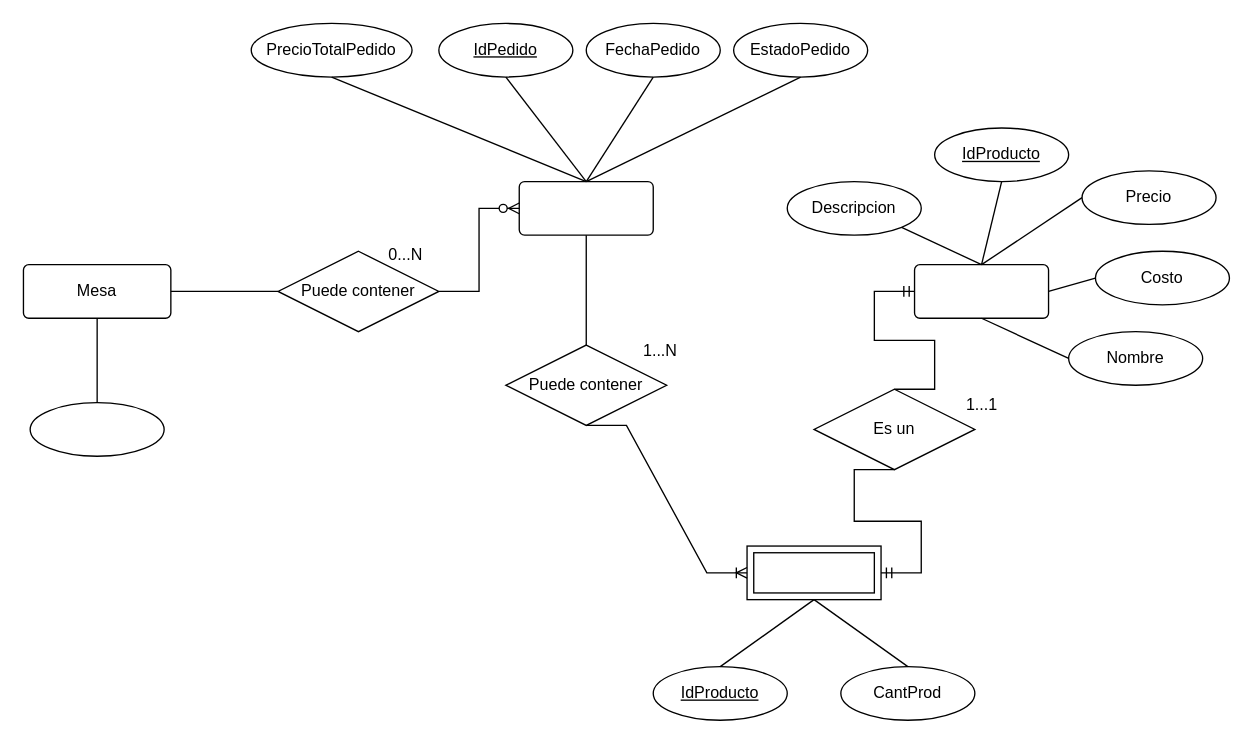
Image size: 1253x744. Some labels were removed from this diagram. The shapes that lost their labels are listed below. From the top down, each one's centre as x and y in pixels, then its label:
At [585,207]: "Pedido".
At [981,290]: "Producto".
At [96,428]: "IdMesa".
At [813,572]: "Item".
